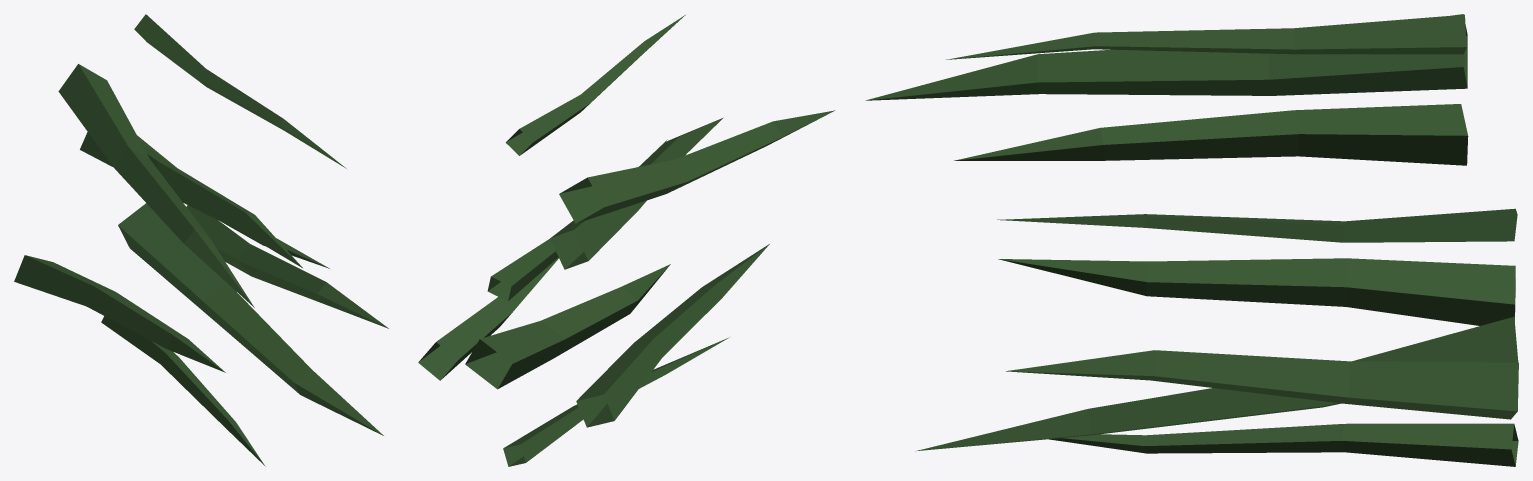
Rendered from Grass.fbx.
3 renders of one model, left to right at view 1: azimuth 30°, elevation 25°; view 2: azimuth 150°, elevation 25°; view 3: azimuth 270°, elevation 25°, orthographic. The views are drawn at different scales.
Parts seen in each view (by area): view 1: M_Grass; view 2: M_Grass; view 3: M_Grass.
Part boxes in pixels (bbox=[...]): M_Grass: bbox=[14, 14, 388, 466]; M_Grass: bbox=[418, 15, 835, 466]; M_Grass: bbox=[865, 14, 1518, 466].
Bounding box in the file's own units: 0.2332 × 0.3682 × 0.478.
1 material, 1 textured.
